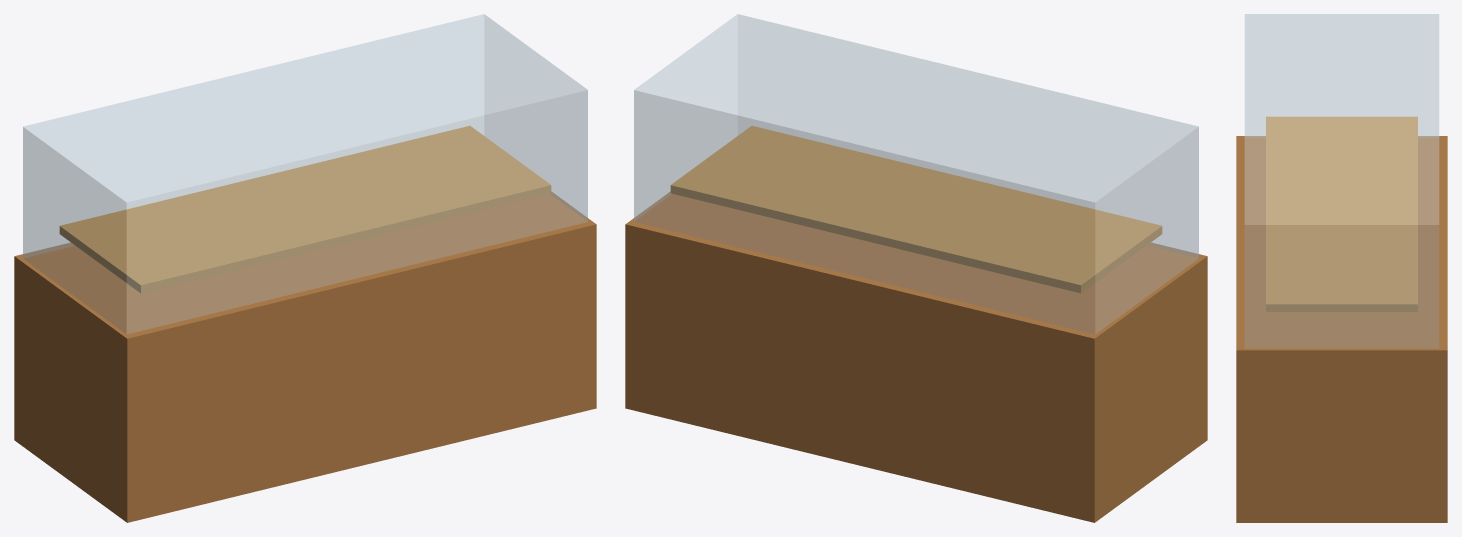
The model's file is bakery.glb.
3 views of the same model, side by side, from view 1: azimuth 30°, elevation 25°; view 2: azimuth 150°, elevation 25°; view 3: azimuth 270°, elevation 25° (orthographic). The views are drawn at different scales.
Parts seen in each view (by area): view 1: Wood_Counter, Glass_Canopy, Bakery_Tray_01; view 2: Wood_Counter, Glass_Canopy, Bakery_Tray_01; view 3: Glass_Canopy, Wood_Counter, Bakery_Tray_01.
Boxes of the visible parts, box(x1,y1,x2,y2) form: Wood_Counter: box(14, 192, 596, 522); Glass_Canopy: box(23, 14, 587, 334); Bakery_Tray_01: box(59, 126, 551, 293); Wood_Counter: box(625, 192, 1207, 522); Glass_Canopy: box(634, 14, 1198, 334); Bakery_Tray_01: box(670, 126, 1162, 293); Glass_Canopy: box(1244, 14, 1439, 348); Wood_Counter: box(1236, 136, 1447, 522); Bakery_Tray_01: box(1266, 116, 1417, 311).
Size of the model in its own units: 2.4 by 1.54 by 1.
